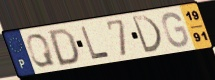7: (104, 18, 130, 58)
D: (130, 14, 164, 55), (48, 27, 81, 68)
G: (161, 11, 191, 49)
L: (79, 25, 112, 61)
Q: (25, 32, 57, 68)
